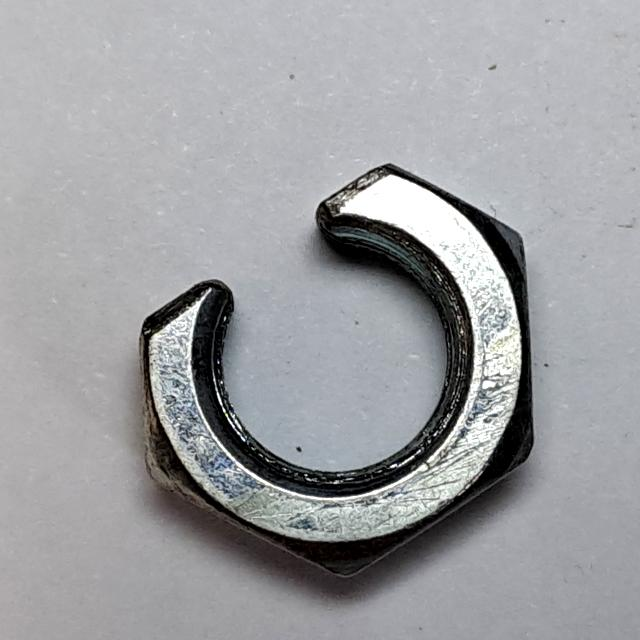Fracture: (128, 149, 552, 595)
